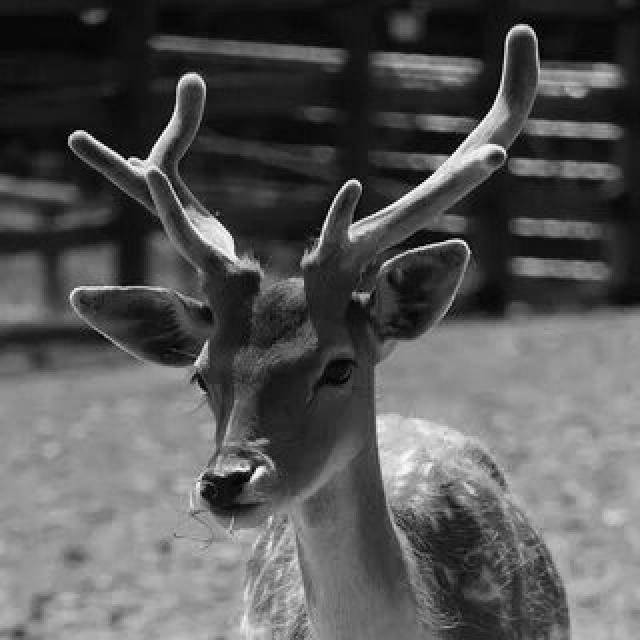Deer: (21, 39, 638, 639)
